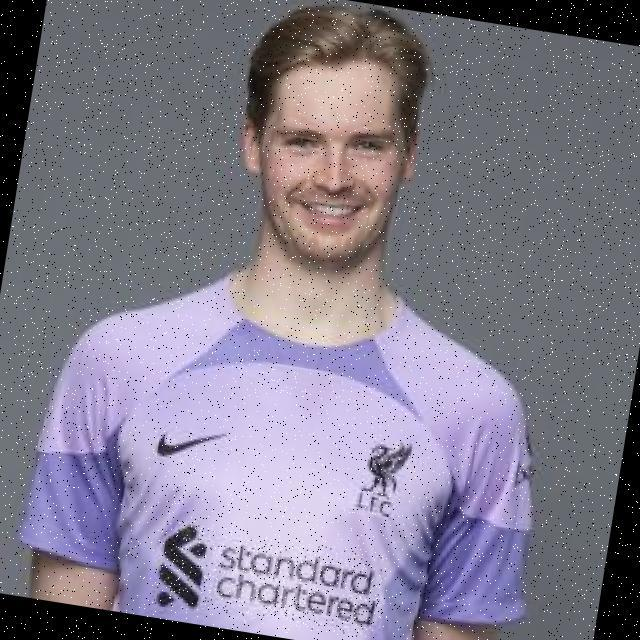Nike: (153, 422, 230, 471)
Standard Chartered: (154, 520, 386, 639)
